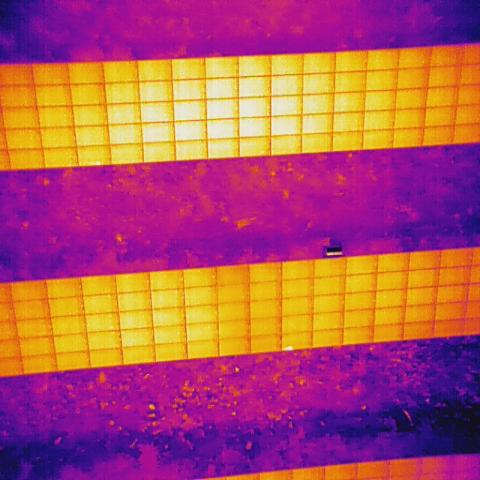fault: (284, 346, 294, 352)
